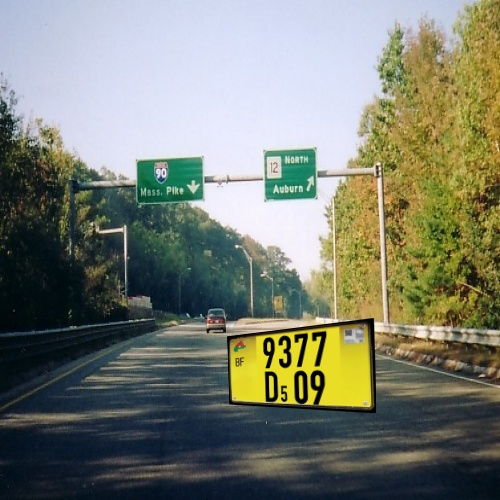plate: (217, 302, 394, 431)
